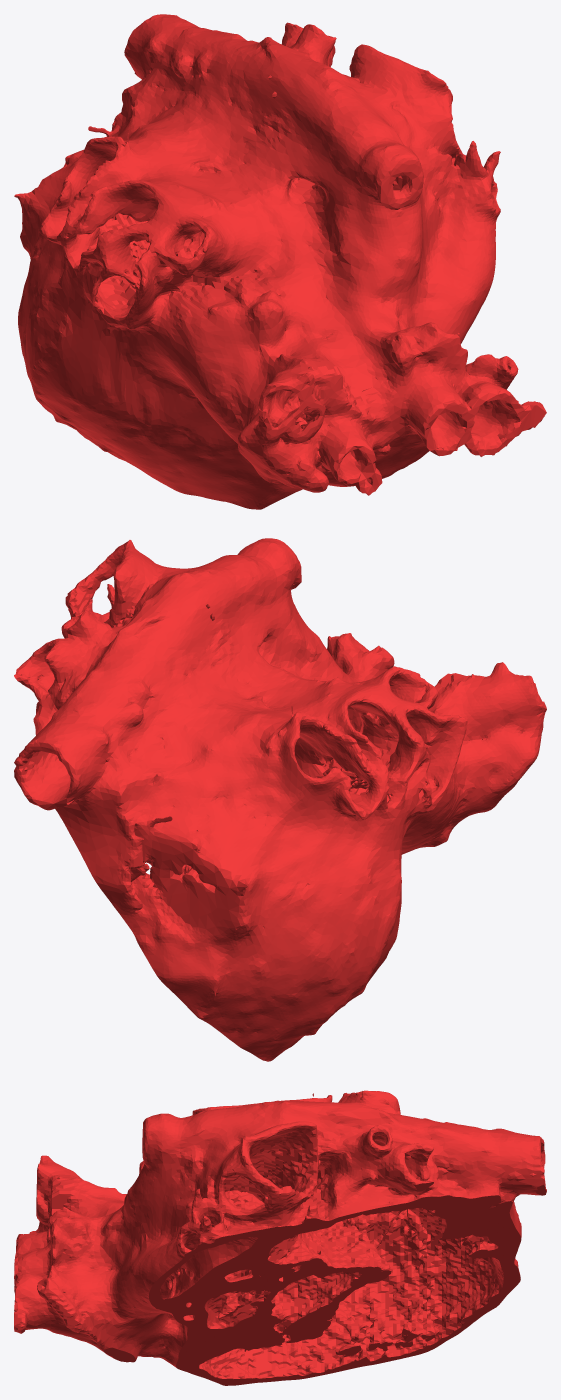
Rendered from Veins.glb.
The picture shows the model from 3 angles, top to bottom: view 1: azimuth 30°, elevation 25°; view 2: azimuth 150°, elevation 25°; view 3: azimuth 270°, elevation 25°; orthographic projection. The views are drawn at different scales.
Parts seen in each view (by area): view 1: CM0041_Astl; view 2: CM0041_Astl; view 3: CM0041_Astl.
Part boxes in pixels (x1,y1,x2,y2): CM0041_Astl: [14, 14, 546, 509]; CM0041_Astl: [14, 538, 546, 1061]; CM0041_Astl: [14, 1090, 546, 1385].
Bounding box in the file's own units: 0.969 × 0.9962 × 1.44.
